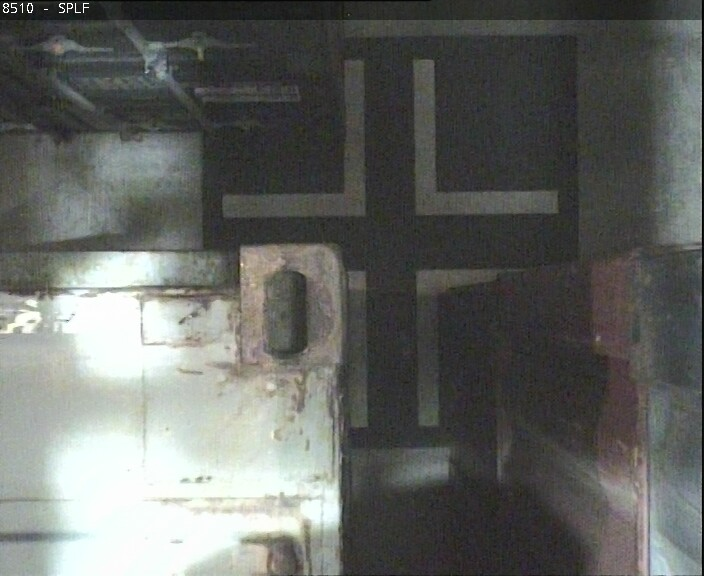groundmarker_1: (227, 62, 561, 220), (338, 269, 519, 425)
